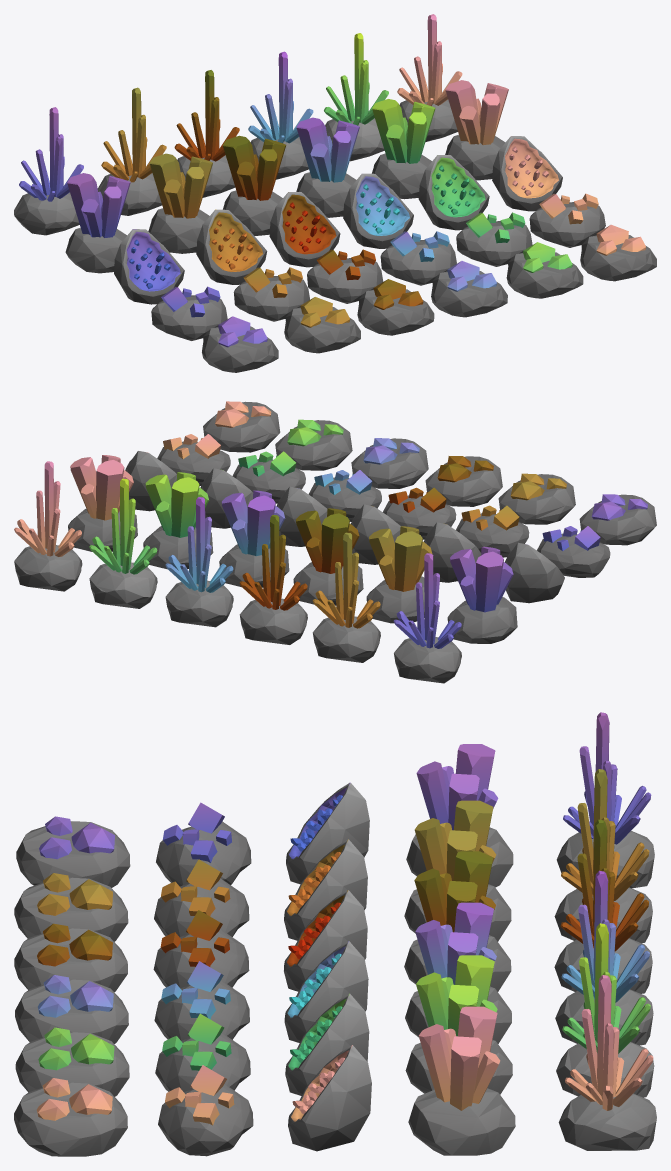
The model's file is SimplePolygon_Minerals.fbx.
The picture shows the model from 3 angles, top to bottom: view 1: azimuth 30°, elevation 25°; view 2: azimuth 150°, elevation 25°; view 3: azimuth 270°, elevation 25°; orthographic projection. The views are drawn at different scales.
Parts seen in each view (by area): view 1: crystal_basalt_green.040, crystal_basalt_green.010, crystal_basalt_green.031, crystal_basalt_green.036, crystal_basalt_green.027, crystal_basalt_green.018, crystal_basalt_green.042, crystal_basalt_green.014, crystal_basalt_green.023, crystal_basalt_green.044, crystal_basalt_green.020, crystal_basalt_green.038 (+18 smaller); view 2: crystal_basalt_green.040, crystal_basalt_green.013, crystal_basalt_green.021, crystal_basalt_green.007, crystal_basalt_green.042, crystal_basalt_green.029, crystal_basalt_green.033, crystal_basalt_green.010, crystal_basalt_green.031, crystal_basalt_green.027, crystal_basalt_green.036, crystal_basalt_green.018 (+18 smaller); view 3: crystal_basalt_green.036, crystal_basalt_green.007, crystal_basalt_green.034, crystal_basalt_green.038, crystal_basalt_green.041, crystal_basalt_green.035, crystal_basalt_green.028, crystal_basalt_green.040, crystal_basalt_green.019, crystal_basalt_green.011, crystal_basalt_green.032, crystal_basalt_green.031 (+18 smaller).
Part boxes in pixels (x1,y1,x2,y2): crystal_basalt_green.040: (65,173,130,273); crystal_basalt_green.010: (148,153,212,253); crystal_basalt_green.031: (372,99,435,199); crystal_basalt_green.036: (445,80,508,180); crystal_basalt_green.027: (296,117,359,217); crystal_basalt_green.018: (223,135,286,235); crystal_basalt_green.042: (14,107,83,235); crystal_basalt_green.014: (196,209,267,284); crystal_basalt_green.023: (343,173,413,248); crystal_basalt_green.044: (114,229,184,304); crystal_basalt_green.020: (269,192,340,267); crystal_basalt_green.038: (492,136,562,211); crystal_basalt_green.040: (447,546,517,643); crystal_basalt_green.013: (312,532,380,662); crystal_basalt_green.021: (239,514,307,644); crystal_basalt_green.007: (14,461,82,591); crystal_basalt_green.042: (393,553,461,683); crystal_basalt_green.029: (165,497,233,627); crystal_basalt_green.033: (89,478,157,608); crystal_basalt_green.010: (366,526,432,623); crystal_basalt_green.031: (143,472,213,569); crystal_basalt_green.027: (219,490,289,587); crystal_basalt_green.036: (68,455,137,551); crystal_basalt_green.018: (293,508,363,605); crystal_basalt_green.036: (408,1006,515,1155); crystal_basalt_green.007: (558,975,656,1150); crystal_basalt_green.034: (14,1078,127,1156); crystal_basalt_green.038: (288,1045,371,1151); crystal_basalt_green.041: (16,816,130,887); crystal_basalt_green.035: (158,1065,253,1156); crystal_basalt_green.028: (15,975,128,1043); crystal_basalt_green.040: (406,744,513,887); crystal_basalt_green.019: (14,923,127,992); crystal_basalt_green.011: (14,873,128,941); crystal_basalt_green.032: (15,1027,129,1096); crystal_basalt_green.031: (405,955,512,1094).
Bounding box in the file's own units: 409 × 105 × 360.
